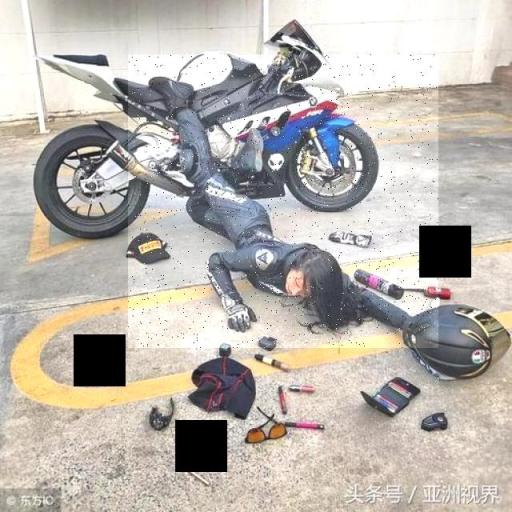Fall: (128, 54, 438, 348)
